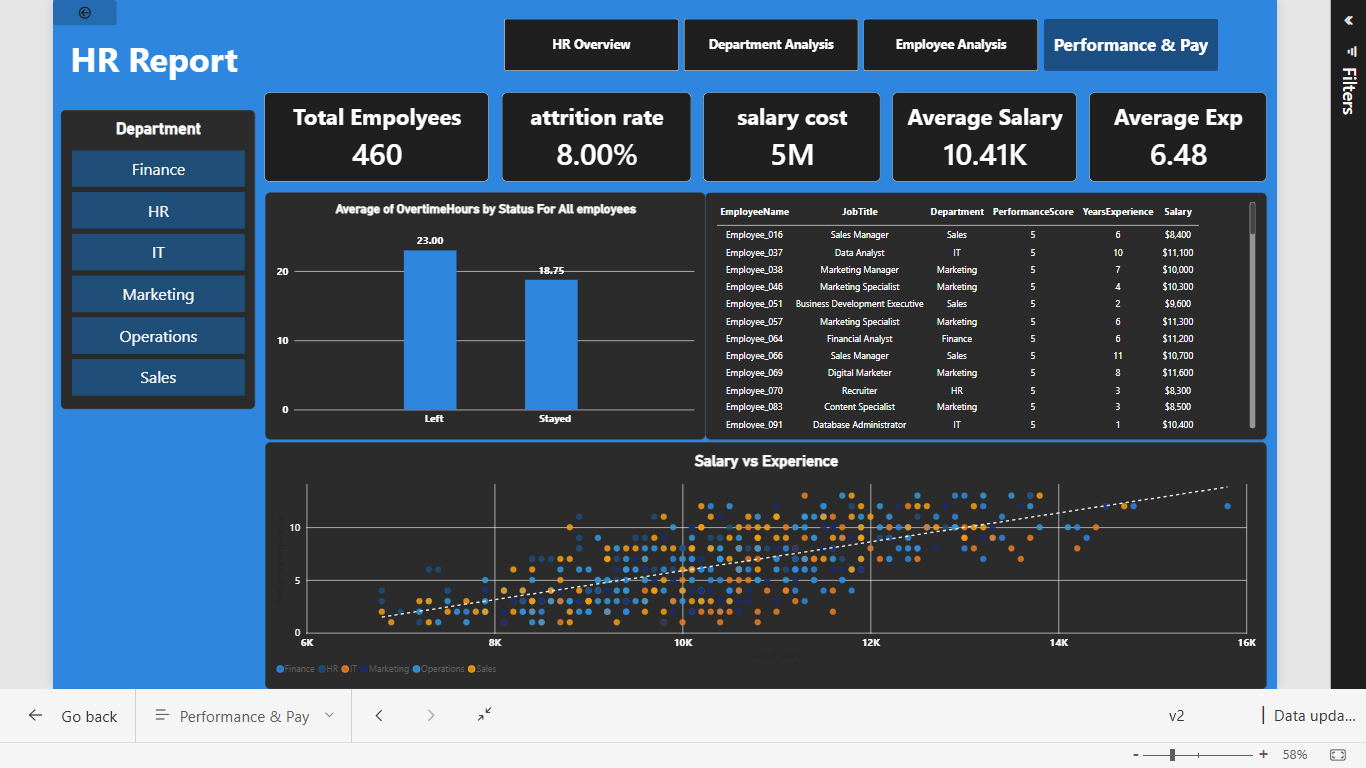

What the dashboard file says about the page in this screenshot:
{"tool":"powerbi","page":{"name":"Performance & Pay","canvas":[1920,1080],"ordinal":3},"visuals":[{"type":"enlightenSlicerB18DC0CE4A1F4BA79CE49FBE40F3965F","fields":{"category":["HR.Department"]},"box":[12.8,172.2,304.9,468.7],"z":0},{"type":"textbox","box":[27.7,55.4,277.2,83.1],"z":1000},{"type":"cardVisual","fields":{"Data":["HR.avrage exp"]},"box":[1624.3,144.6,278.5,140.3],"z":2000},{"type":"cardVisual","fields":{"Data":["HR.avrage salary"]},"box":[1316.5,144.6,289.1,140.3],"z":3000},{"type":"cardVisual","fields":{"Data":["HR.salary cost"]},"box":[1019.4,144.6,278.5,140.3],"z":4000},{"type":"cardVisual","fields":{"Data":["HR.attrition rate"]},"box":[703.2,144.6,297.6,140.3],"z":5000},{"type":"cardVisual","fields":{"Data":["HR.active employees"]},"box":[331.7,144.6,352.9,140.3],"z":6000},{"type":"pageNavigator","box":[707.5,30,1120,82.5],"z":7000},{"type":"actionButton","box":[0,0,100,40],"z":8000},{"type":"scatterChart","title":"Salary vs Experience","fields":{"Category":["HR.EmployeeID"],"Series":["HR.Department"],"X":["Sum(HR.Salary)"],"Y":["Sum(HR.YearsExperience)"]},"box":[332.5,692.5,1570,387.5],"z":9000},{"type":"tableEx","fields":{"Values":["HR.EmployeeName","HR.JobTitle","HR.Department","HR.PerformanceScore","HR.YearsExperience","HR.Salary"]},"box":[1022.5,302.5,880,387.5],"z":10000},{"type":"clusteredColumnChart","title":"Average of OvertimeHours by Status For All employees","fields":{"Category":["HR.Status"],"Y":["Avg(HR.OvertimeHours)"]},"box":[332.5,302.5,690,387.5],"z":11000}]}

Visuals, with their boxes on the page's 1920x1080 design canvas (x1, y1, x2, y2). These are canvas units, not pixel positions in the 1366x768 screenshot, which may show the page scaled, cropped or inside an application window:
enlightenSlicerB18DC0CE4A1F4BA79CE49FBE40F3965F - HR.Department: {"left": 13, "top": 172, "right": 318, "bottom": 641}
textbox: {"left": 28, "top": 55, "right": 305, "bottom": 138}
cardVisual - HR.avrage exp: {"left": 1624, "top": 145, "right": 1903, "bottom": 285}
cardVisual - HR.avrage salary: {"left": 1316, "top": 145, "right": 1606, "bottom": 285}
cardVisual - HR.salary cost: {"left": 1019, "top": 145, "right": 1298, "bottom": 285}
cardVisual - HR.attrition rate: {"left": 703, "top": 145, "right": 1001, "bottom": 285}
cardVisual - HR.active employees: {"left": 332, "top": 145, "right": 685, "bottom": 285}
pageNavigator: {"left": 708, "top": 30, "right": 1828, "bottom": 112}
actionButton: {"left": 0, "top": 0, "right": 100, "bottom": 40}
"Salary vs Experience" scatterChart: {"left": 332, "top": 692, "right": 1902, "bottom": 1080}
tableEx - HR.EmployeeName x HR.JobTitle: {"left": 1022, "top": 302, "right": 1902, "bottom": 690}
"Average of OvertimeHours by Status For All employees" clusteredColumnChart: {"left": 332, "top": 302, "right": 1022, "bottom": 690}
